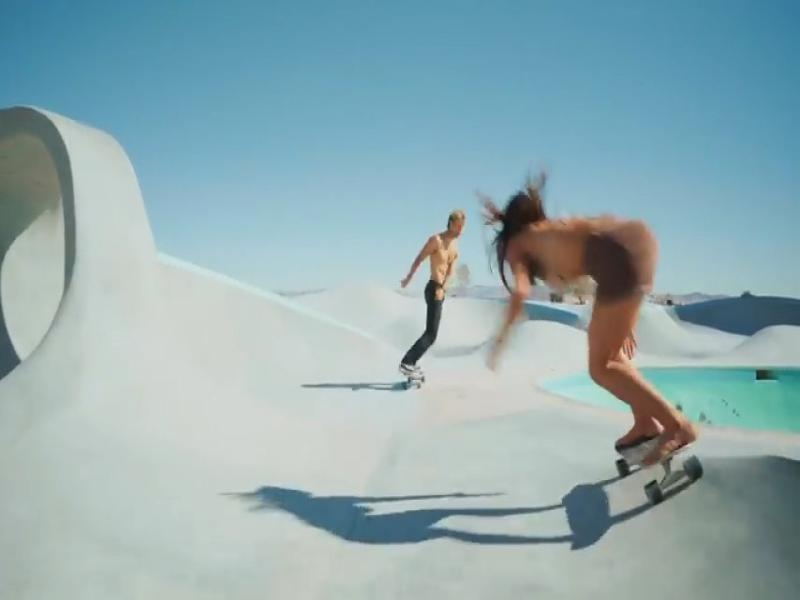person: (484, 175, 697, 464), (400, 211, 466, 382)
skate: (610, 430, 716, 514)
